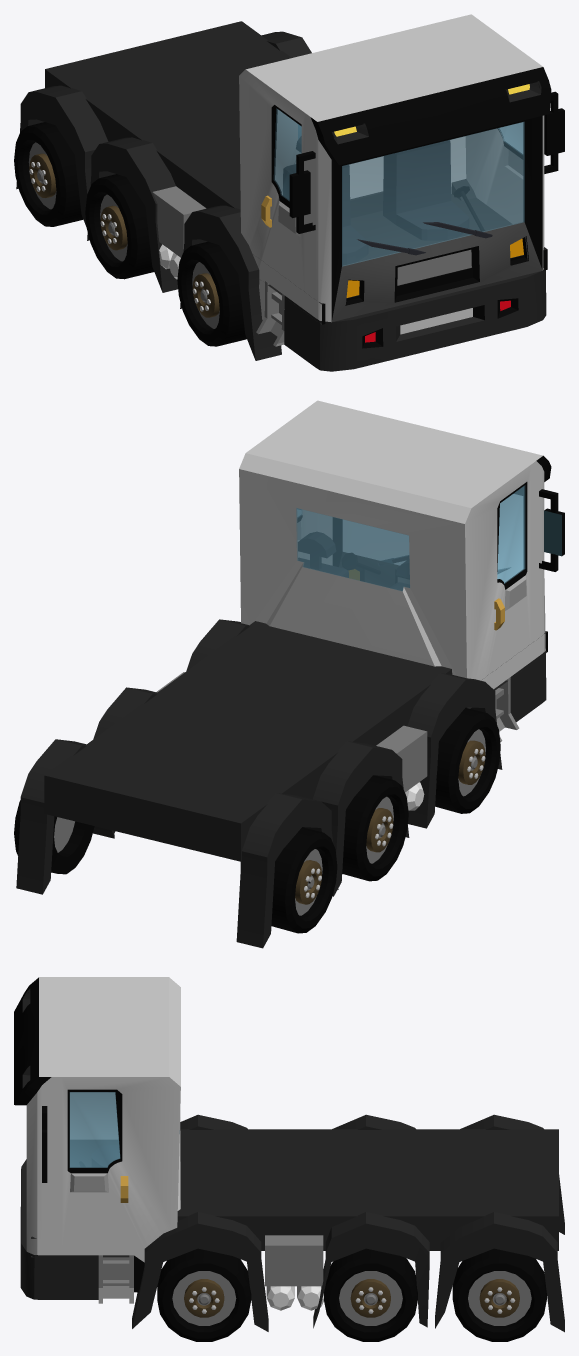
File: CaminhaoRetoBranco.fbx
3 renders of one model, top to bottom at view 1: azimuth 30°, elevation 25°; view 2: azimuth 150°, elevation 25°; view 3: azimuth 270°, elevation 25°, orthographic. The views are drawn at different scales.
Visible parts, largest first — view 1: CaminhaoRetoBranco; view 2: CaminhaoRetoBranco; view 3: CaminhaoRetoBranco.
Part boxes in pixels (x1,y1,x2,y2): CaminhaoRetoBranco: (14,14,564,371); CaminhaoRetoBranco: (14,400,564,948); CaminhaoRetoBranco: (14,977,564,1341).
Bounding box in the file's own units: 378 × 368 × 721.
